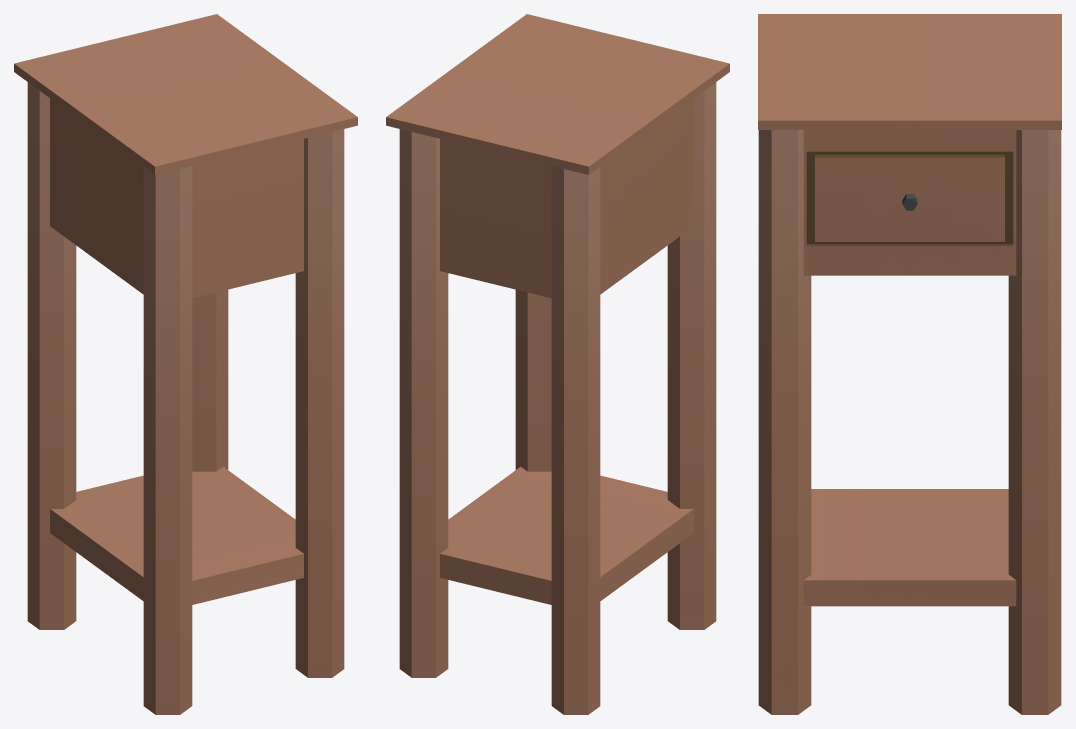
The model's file is table de chevet.fbx.
3 views of the same model, side by side, from view 1: azimuth 30°, elevation 25°; view 2: azimuth 150°, elevation 25°; view 3: azimuth 270°, elevation 25° (orthographic). The views are drawn at different scales.
Visible parts, largest first — view 1: Cylinder.006; view 2: Cylinder.006; view 3: Cylinder.006.
Part boxes in pixels (x1,y1,x2,y2): Cylinder.006: (14, 14, 357, 714); Cylinder.006: (386, 14, 729, 714); Cylinder.006: (758, 14, 1061, 714).
Size of the model in its own units: 49.44 by 59.45 by 129.
